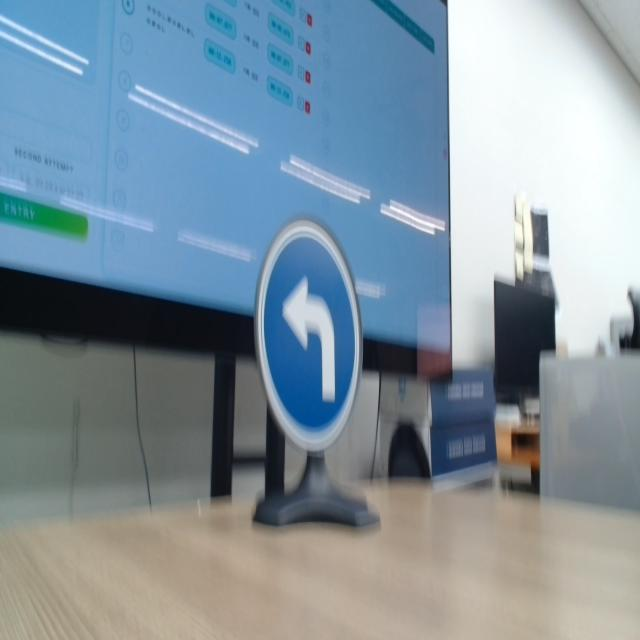left_direction: (250, 211, 366, 450)
